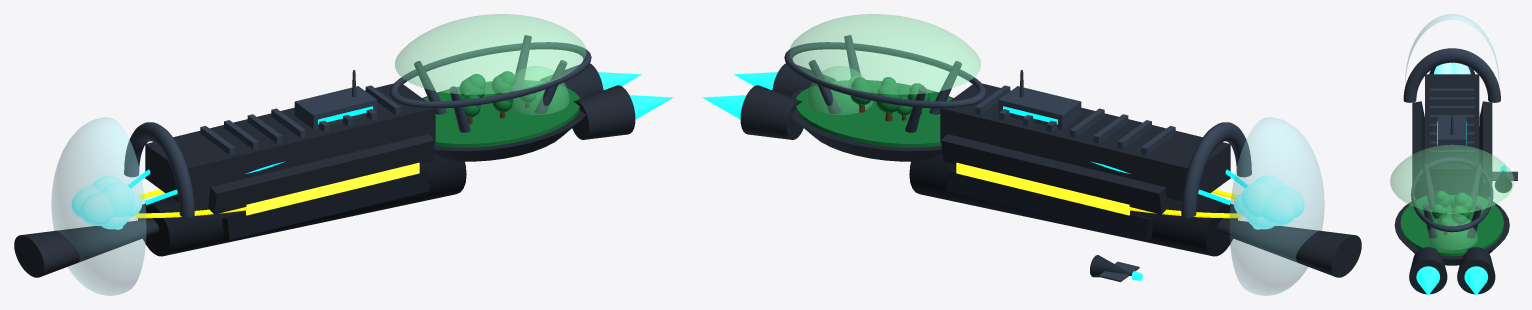
File: spaceship_hull.glb
3 renders of one model, left to right at view 1: azimuth 30°, elevation 25°; view 2: azimuth 150°, elevation 25°; view 3: azimuth 270°, elevation 25°, orthographic. The views are drawn at different scales.
Visible parts, largest first — view 1: Midsection_Hull_Sector, Stern_Arboretum_Sector, Glass_Cockpit_Canopy, Grand_Parasol_Canopy, Bow_Cognitive_Sector, Cognitive_Brain_Assembly, Arboretum_Pylon_4, Arboretum_Pylon_2, Arboretum_Pylon_3, Amber_Mid_Conduit_Starboard; view 2: Midsection_Hull_Sector, Stern_Arboretum_Sector, Glass_Cockpit_Canopy, Grand_Parasol_Canopy, Bow_Cognitive_Sector, Cognitive_Brain_Assembly, Escort_Scout_Shuttle, Arboretum_Pylon_1, Arboretum_Pylon_4, Amber_Mid_Conduit_Port; view 3: Stern_Arboretum_Sector, Midsection_Hull_Sector, Grand_Parasol_Canopy, Bow_Cognitive_Sector, Glass_Cockpit_Canopy, Escort_Scout_Shuttle, Cognitive_Brain_Assembly, Arboretum_Pylon_1, Arboretum_Pylon_2, Arboretum_Pylon_3, Arboretum_Pylon_4.
Part boxes in pixels (left/top/right/bottom): Midsection_Hull_Sector: left=138, top=70, right=466, bottom=256; Stern_Arboretum_Sector: left=389, top=42, right=673, bottom=161; Glass_Cockpit_Canopy: left=51, top=117, right=146, bottom=295; Grand_Parasol_Canopy: left=395, top=14, right=586, bottom=94; Bow_Cognitive_Sector: left=14, top=122, right=194, bottom=277; Cognitive_Brain_Assembly: left=71, top=175, right=141, bottom=229; Arboretum_Pylon_4: left=514, top=35, right=531, bottom=90; Arboretum_Pylon_2: left=414, top=61, right=446, bottom=114; Arboretum_Pylon_3: left=534, top=60, right=567, bottom=113; Amber_Mid_Conduit_Starboard: left=135, top=207, right=245, bottom=218; Midsection_Hull_Sector: left=909, top=70, right=1237, bottom=256; Stern_Arboretum_Sector: left=702, top=42, right=986, bottom=161; Glass_Cockpit_Canopy: left=1229, top=117, right=1324, bottom=295; Grand_Parasol_Canopy: left=789, top=14, right=980, bottom=94; Bow_Cognitive_Sector: left=1181, top=122, right=1361, bottom=277; Cognitive_Brain_Assembly: left=1234, top=175, right=1304, bottom=229; Escort_Scout_Shuttle: left=1090, top=255, right=1142, bottom=281; Arboretum_Pylon_1: left=929, top=61, right=961, bottom=114; Arboretum_Pylon_4: left=808, top=60, right=841, bottom=113; Amber_Mid_Conduit_Port: left=1130, top=207, right=1240, bottom=218; Stern_Arboretum_Sector: left=1394, top=157, right=1509, bottom=295; Midsection_Hull_Sector: left=1412, top=74, right=1492, bottom=199; Grand_Parasol_Canopy: left=1390, top=144, right=1514, bottom=213; Bow_Cognitive_Sector: left=1403, top=48, right=1500, bottom=102; Glass_Cockpit_Canopy: left=1405, top=14, right=1498, bottom=82; Escort_Scout_Shuttle: left=1492, top=165, right=1517, bottom=192; Cognitive_Brain_Assembly: left=1434, top=62, right=1470, bottom=74; Arboretum_Pylon_1: left=1422, top=163, right=1435, bottom=209; Arboretum_Pylon_2: left=1469, top=163, right=1481, bottom=210; Arboretum_Pylon_3: left=1422, top=203, right=1437, bottom=238; Arboretum_Pylon_4: left=1466, top=203, right=1481, bottom=238.
Bounding box in the file's own units: 34.55 × 8.99 × 7.99.
